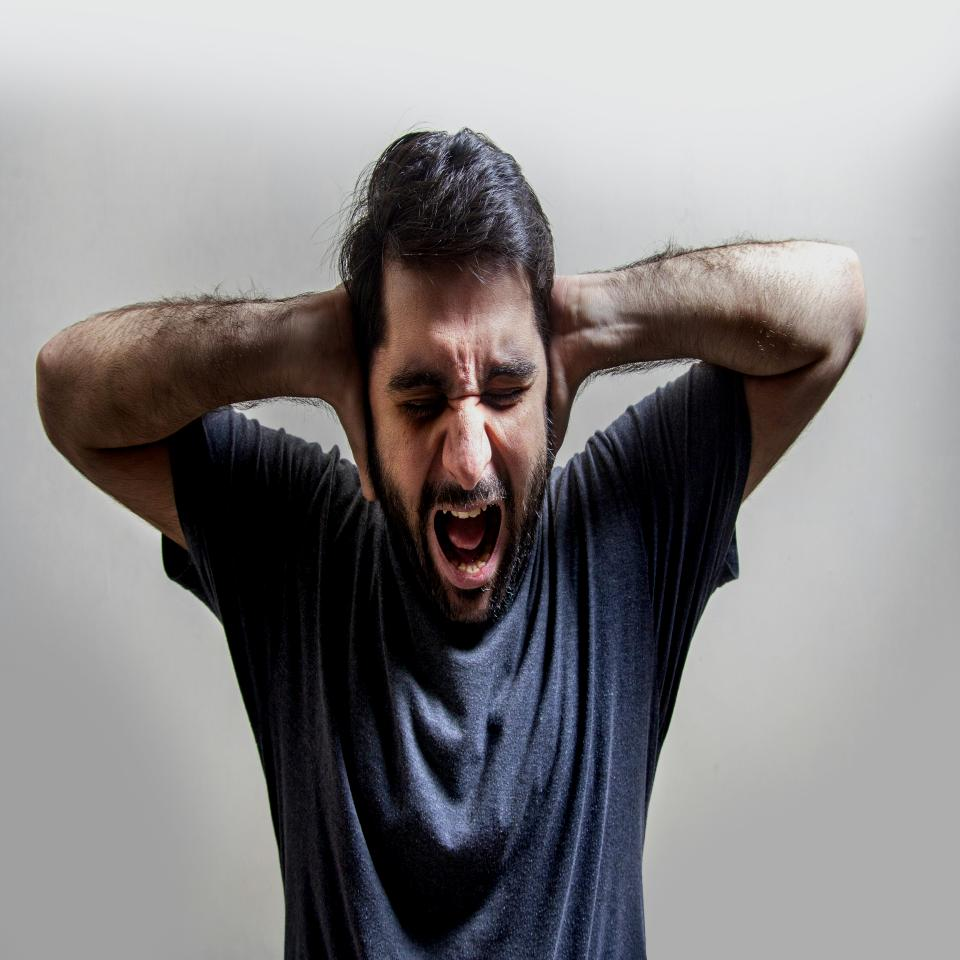Anger: (378, 267, 544, 629)
